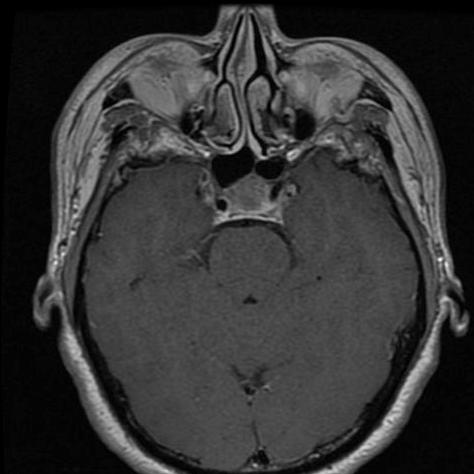Tumour-Pituitary: (190, 176, 305, 230)
